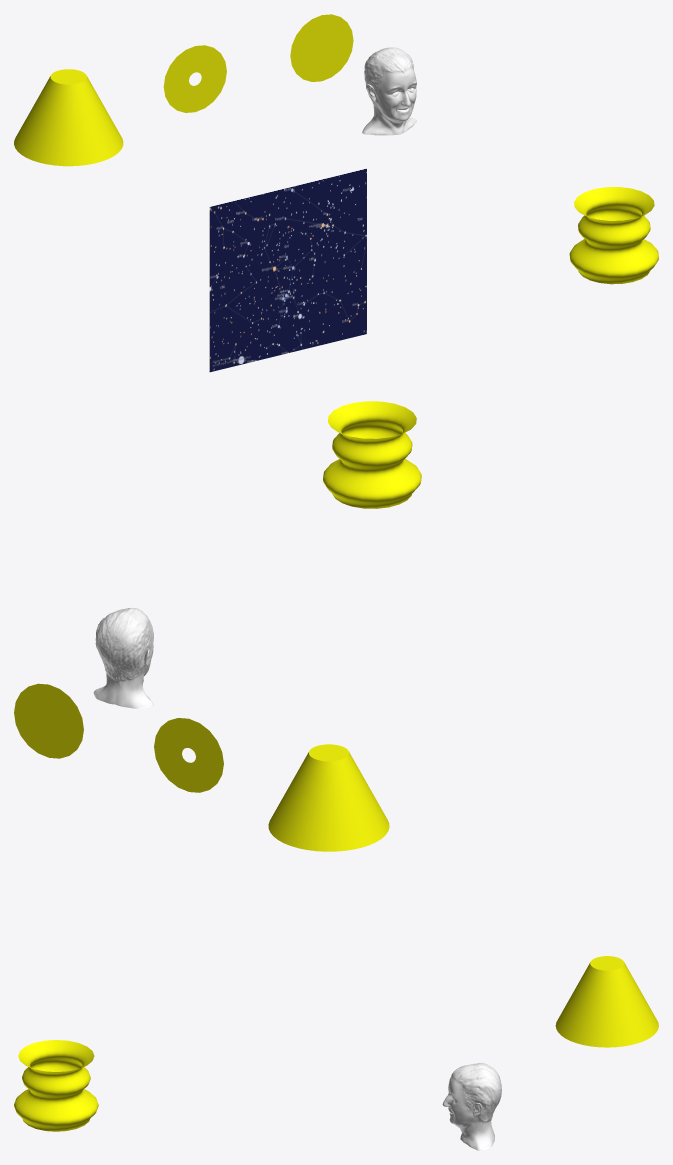
3 renders of one model, top to bottom at view 1: azimuth 30°, elevation 25°; view 2: azimuth 150°, elevation 25°; view 3: azimuth 270°, elevation 25°, orthographic. The views are drawn at different scales.
Parts seen in each view (by area): view 1: Icosahedron, object 4, object 5, Mesh_Mesh_head_geo.001_lambert2SG.001, object 2, object 3; view 2: object 4, object 5, Mesh_Mesh_head_geo.001_lambert2SG.001, object 2, object 3; view 3: object 4, object 5, Mesh_Mesh_head_geo.001_lambert2SG.001.
Part boxes in pixels (x1,y1,x2,y2): Icosahedron: [209, 168, 366, 372]; object 4: [14, 69, 123, 166]; object 5: [569, 187, 658, 284]; Mesh_Mesh_head_geo.001_lambert2SG.001: [362, 47, 416, 135]; object 2: [290, 14, 353, 81]; object 3: [163, 45, 226, 112]; object 4: [268, 744, 389, 851]; object 5: [323, 401, 421, 508]; Mesh_Mesh_head_geo.001_lambert2SG.001: [93, 607, 153, 708]; object 2: [14, 683, 83, 758]; object 3: [154, 718, 223, 792]; object 4: [555, 956, 658, 1047]; object 5: [14, 1040, 98, 1131]; Mesh_Mesh_head_geo.001_lambert2SG.001: [442, 1062, 501, 1150].
Bounding box in the file's own units: 586 × 250 × 936.
3 materials, 1 textured.
